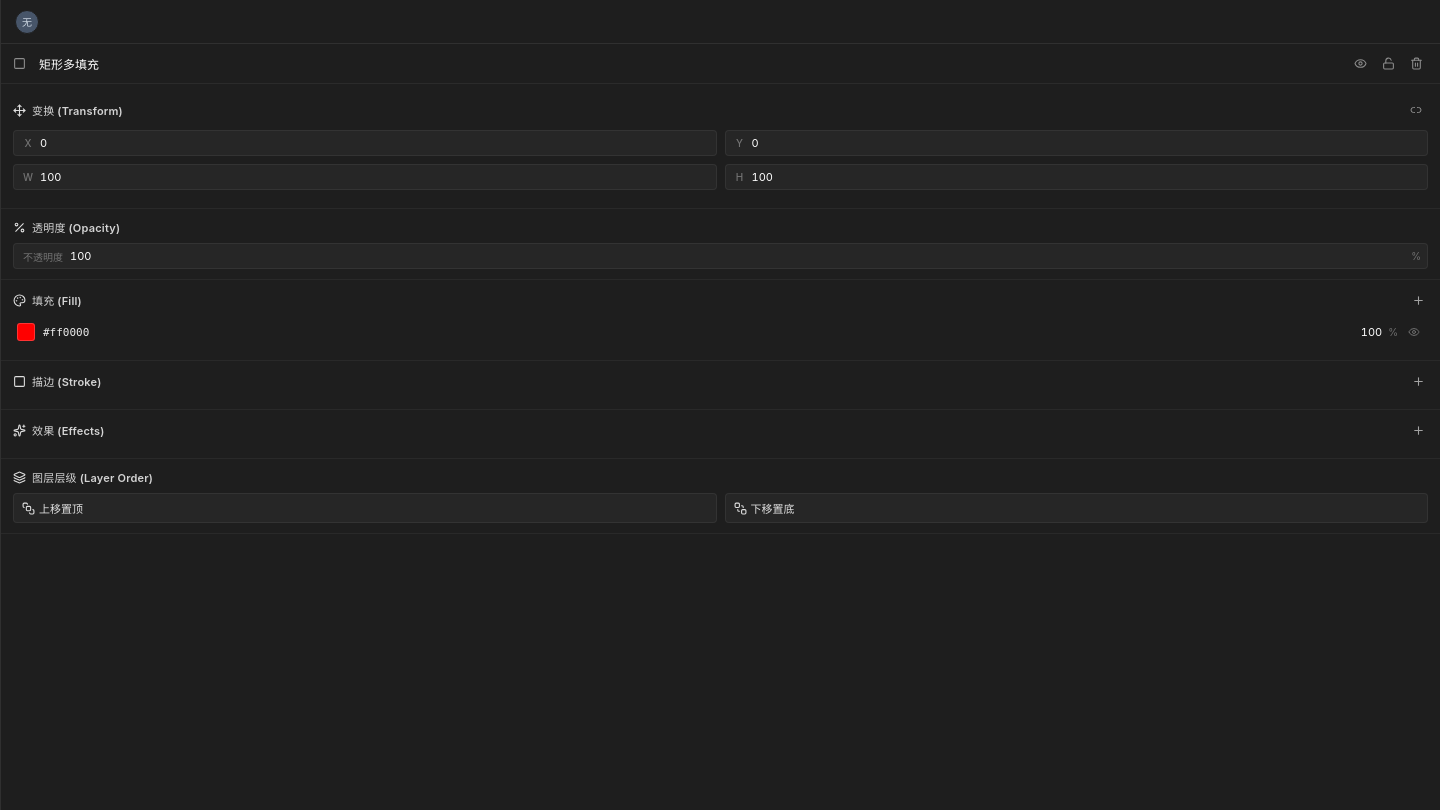
Test: InspectorPanel › supports multi-fill layering and toggling fill visibility
This screenshot has width=1440, height=810.
Later steps or results of the test are not shown.
Check: the field named "填充颜色十六进制" holds "#ff0000", box [41,324,711,340]
# Click add fill layer
Click the button named "添加填充图层": (1418, 300) [1408,290,1428,310]
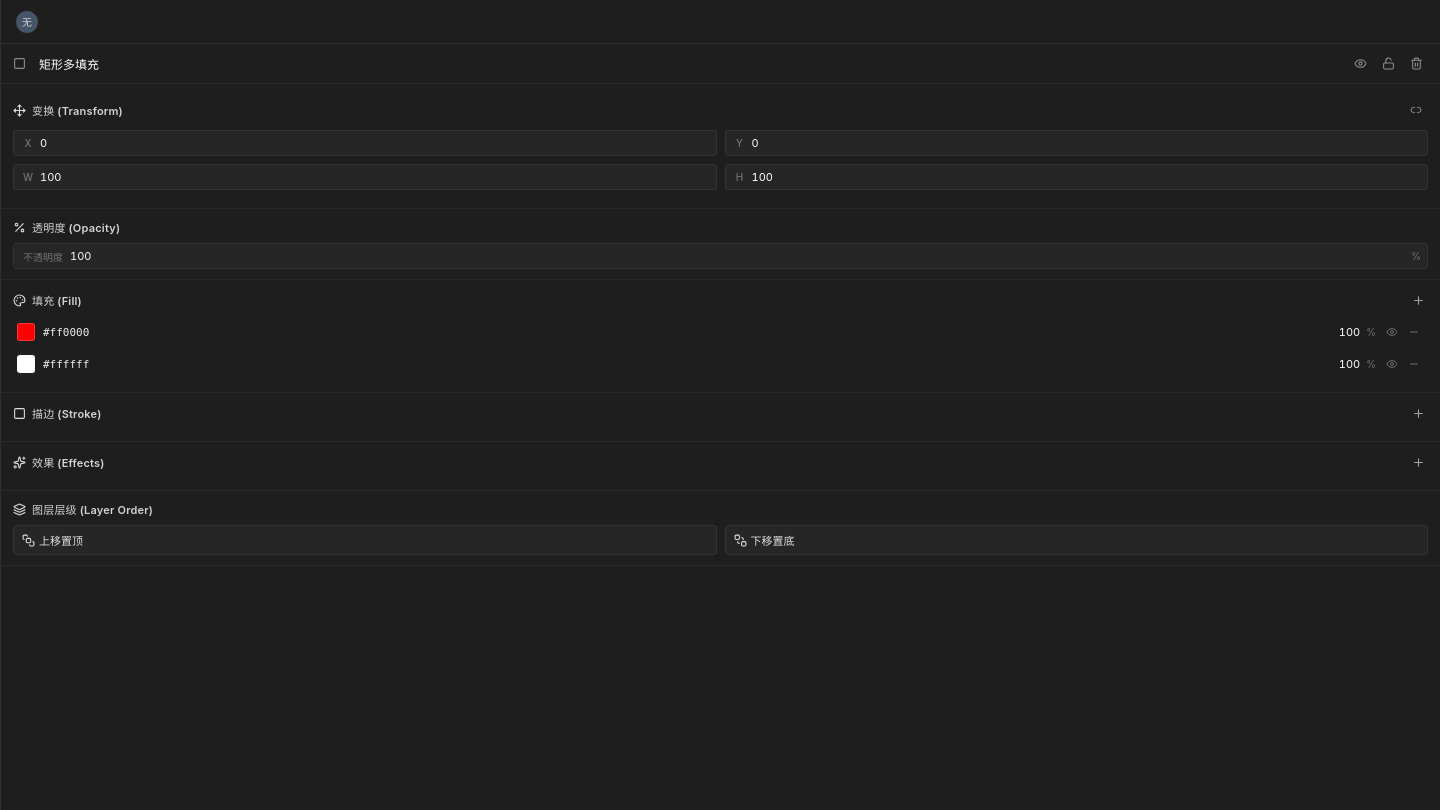
Check: the 1st button titled "隐藏填充" is shown, box [1382,322,1402,342]
Check: the field named "填充颜色十六进制 2" is shown, box [41,356,700,372]
